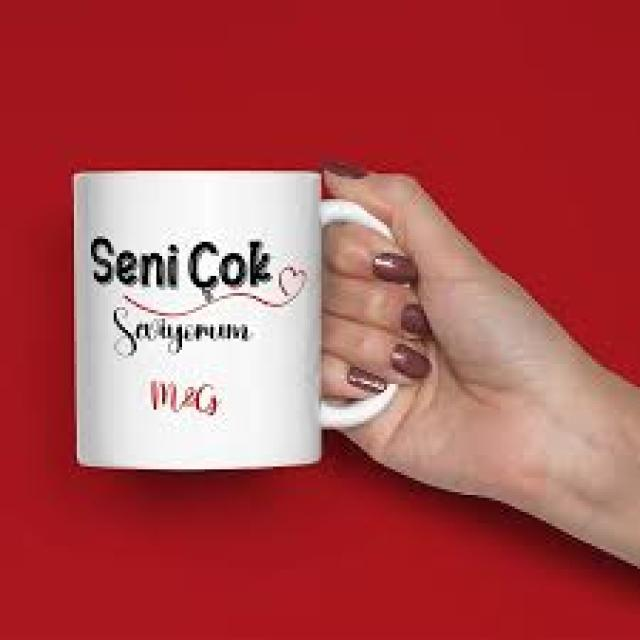taza: (71, 168, 421, 470)
